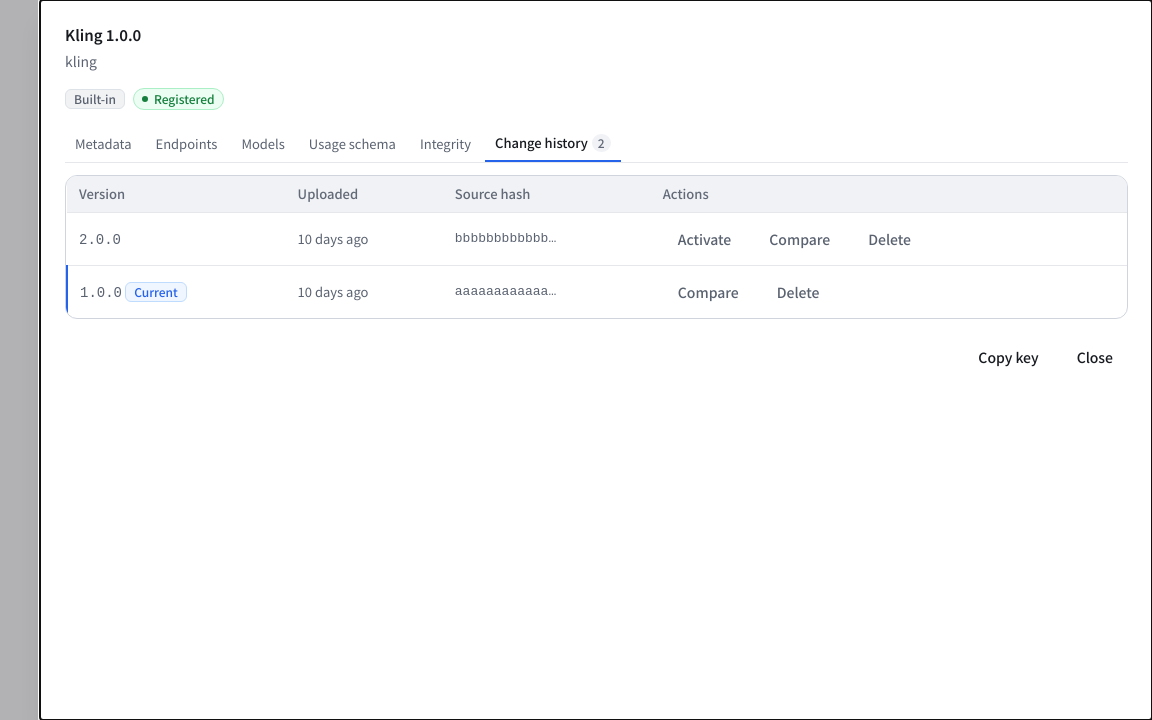
Test case: plugin detail drawer (F-08-29/31) › compares a version against the active source with a read-only diff
Click the button "Compare" in the row of "2.0.0" at (800, 239), box [754,221,845,257]
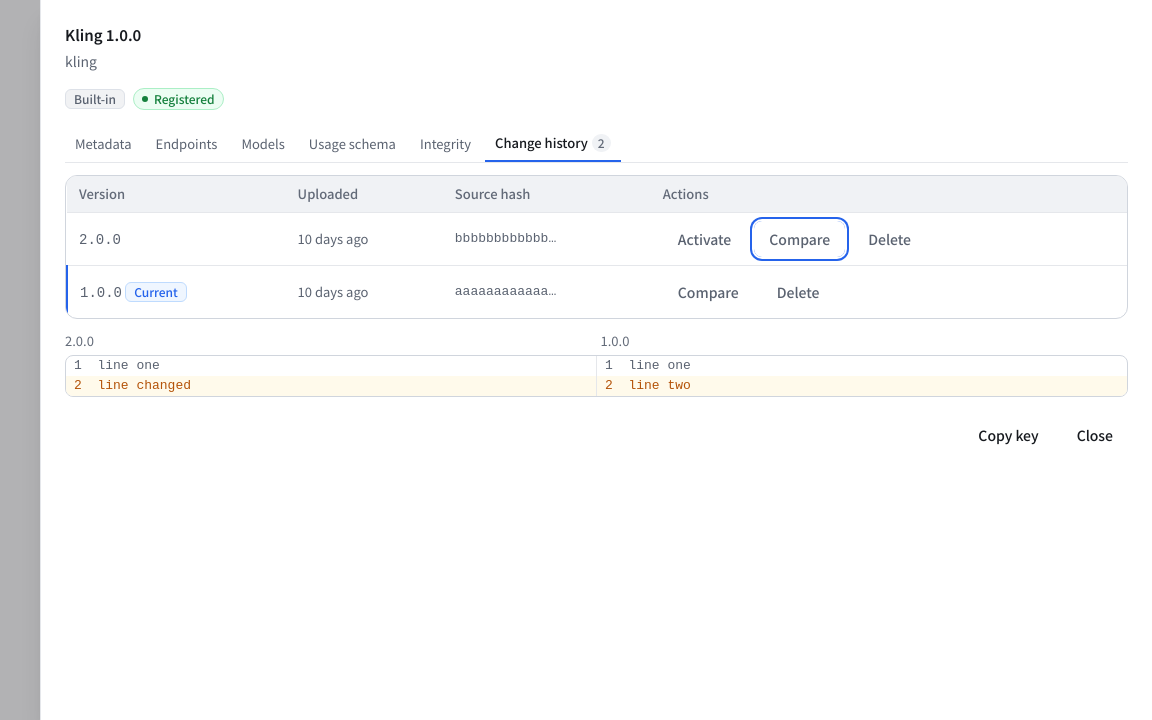
Expected: the element with test id "plugin-source-diff" shows "line changed", [74,378,191,393]
Expected: the element with test id "plugin-source-diff" shows "line two", [605,378,691,393]
